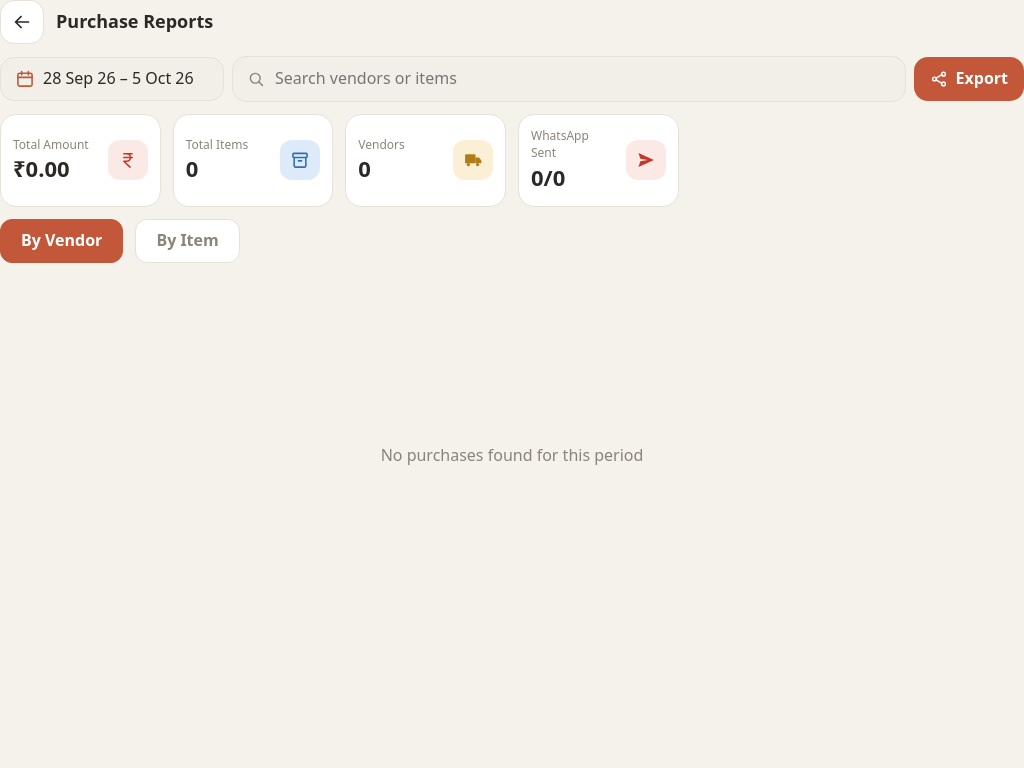
Scenario: Purchase Reports screen › PU-3. the date pill opens "Select Date Range" and re-runs over the range chosen
The image size is (1024, 768).
Expected: the text "No purchases found for this period" is shown, [381,444,643,466]
Click the button with aria-label "Change dates". click: (112, 79)
box: [0,57,224,101]
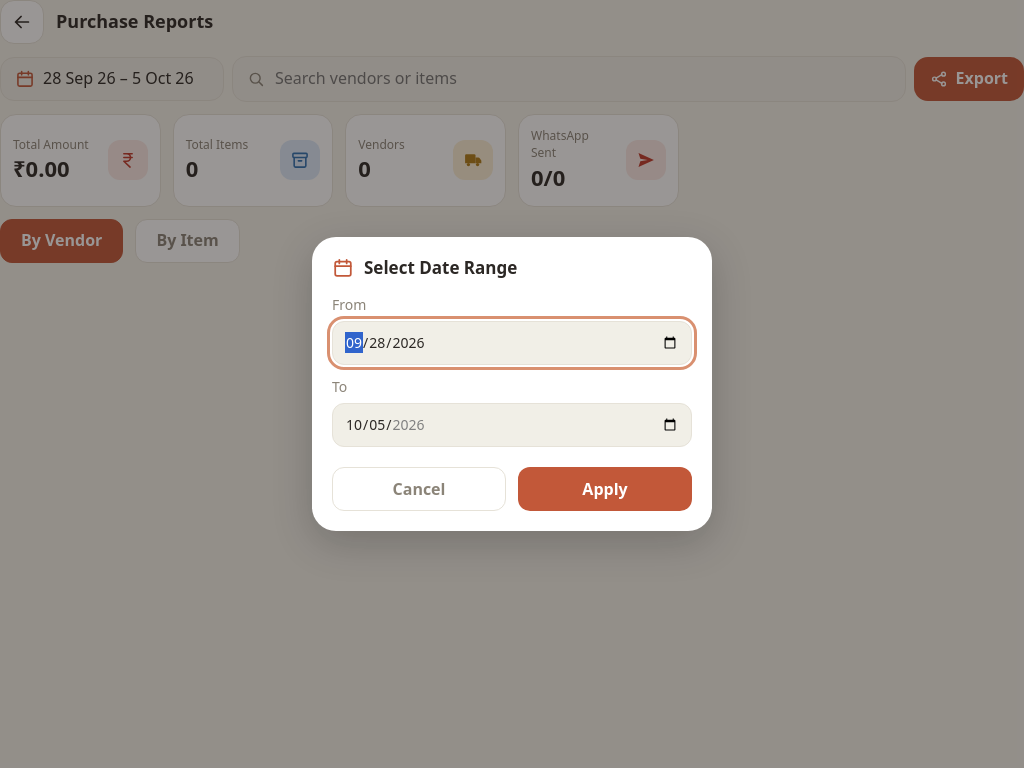
Type "2026-09-01" into the date field labelled "From". click: (512, 343)
box: [332,321,692,365]
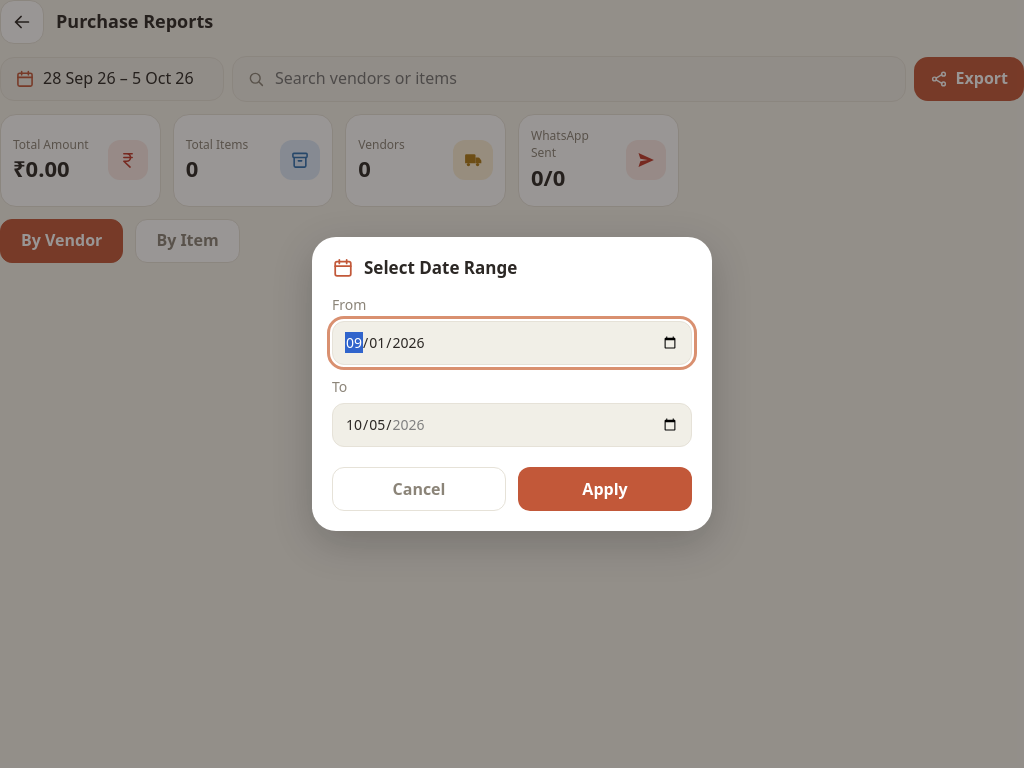
Type "2026-09-10" into the date field labelled "To". click: (512, 425)
box: [332,403,692,447]
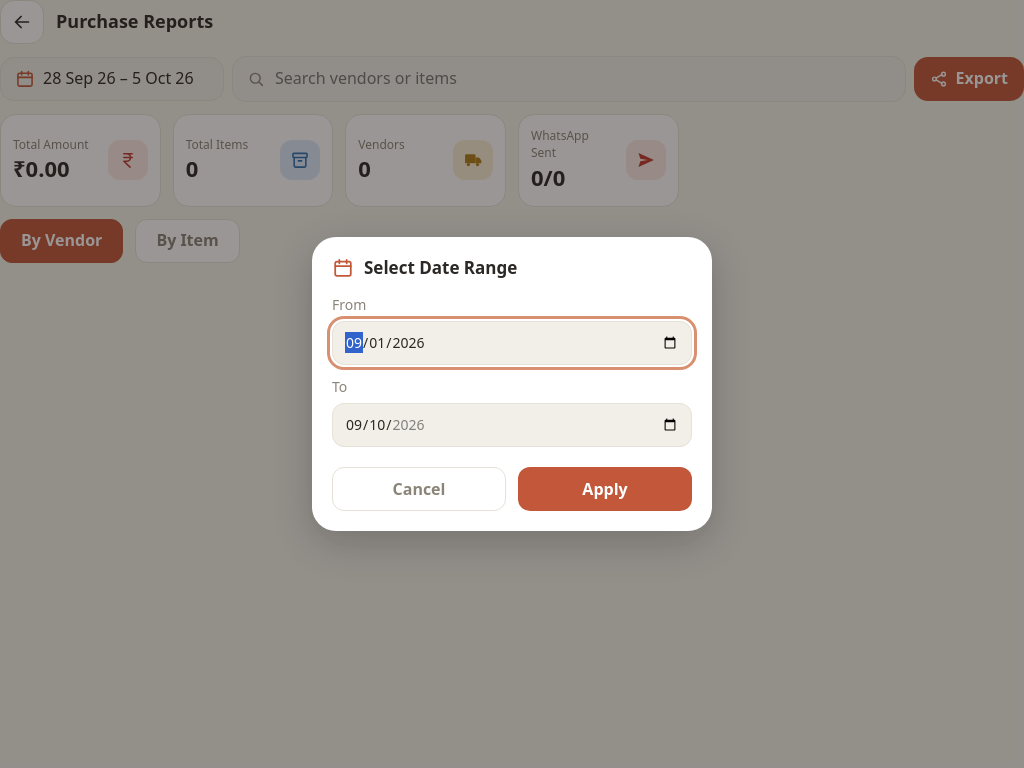
Click the button "Apply". click: (605, 489)
box: [518,467,692,511]
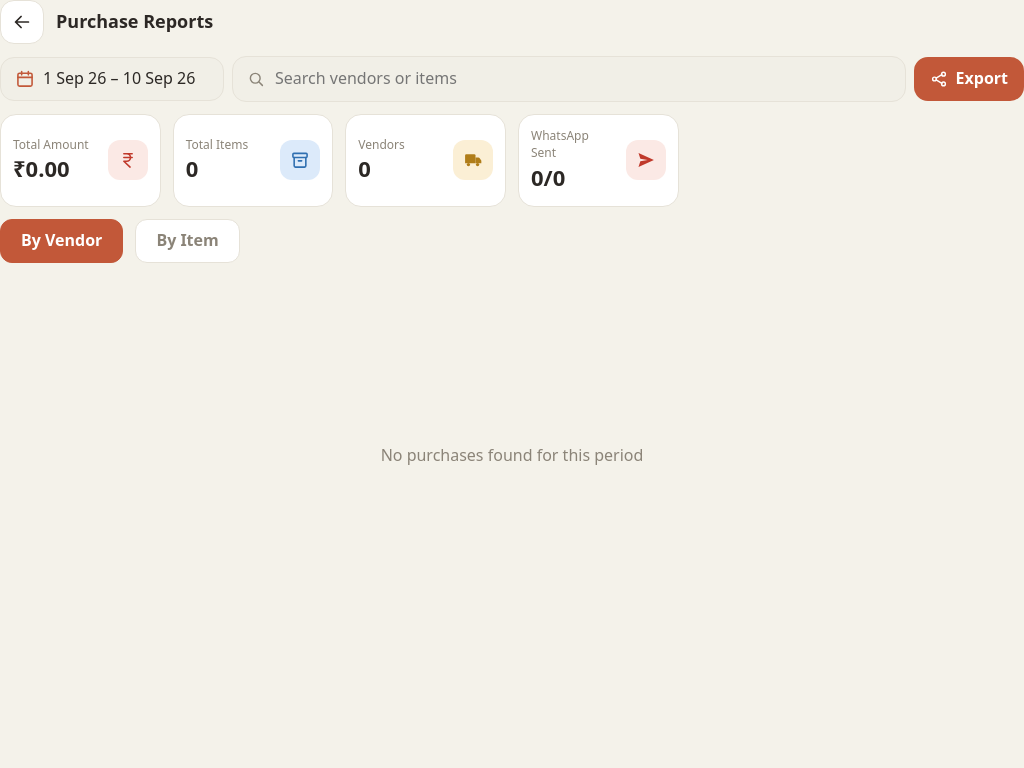
Expected: the text "1 Sep 26 – 10 Sep 26" is shown, [43,67,195,91]
